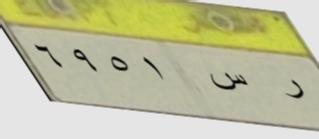1: (138, 50, 167, 86)
5: (108, 51, 133, 79)
6: (36, 43, 63, 72)
9: (70, 44, 101, 80)
raa: (276, 71, 309, 109)
seen: (205, 68, 252, 96)
